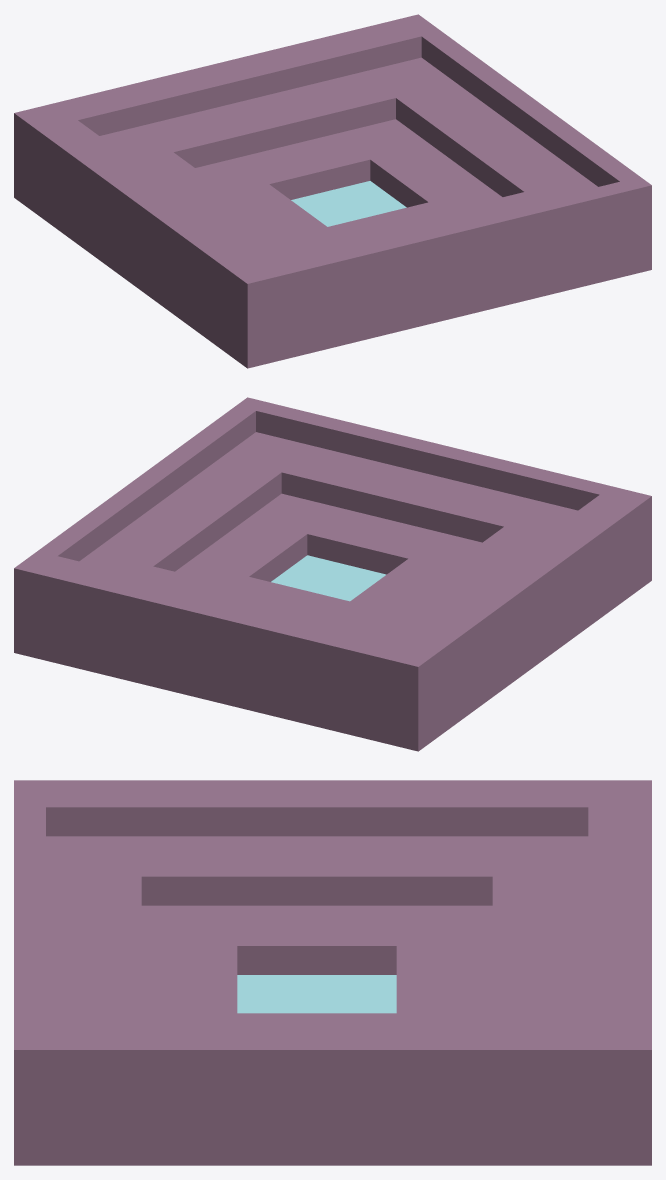
Rendered from alien-biosphere-terraced-basin-0652b6f4__22769.glb.
The picture shows the model from 3 angles, top to bottom: view 1: azimuth 30°, elevation 25°; view 2: azimuth 150°, elevation 25°; view 3: azimuth 270°, elevation 25°; orthographic projection. The views are drawn at different scales.
Parts seen in each view (by area): view 1: terraced-basin; view 2: terraced-basin; view 3: terraced-basin.
Boxes of the visible parts, x1,y1,x2,y2 form: terraced-basin: (14,14,651,368); terraced-basin: (14,397,651,751); terraced-basin: (14,780,651,1165).
Bounding box in the file's own units: 4 × 0.7999 × 4.
